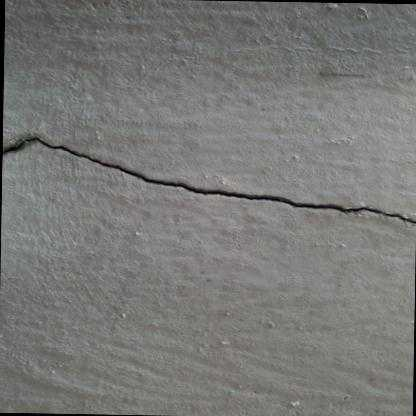crack: (1, 131, 416, 227)
